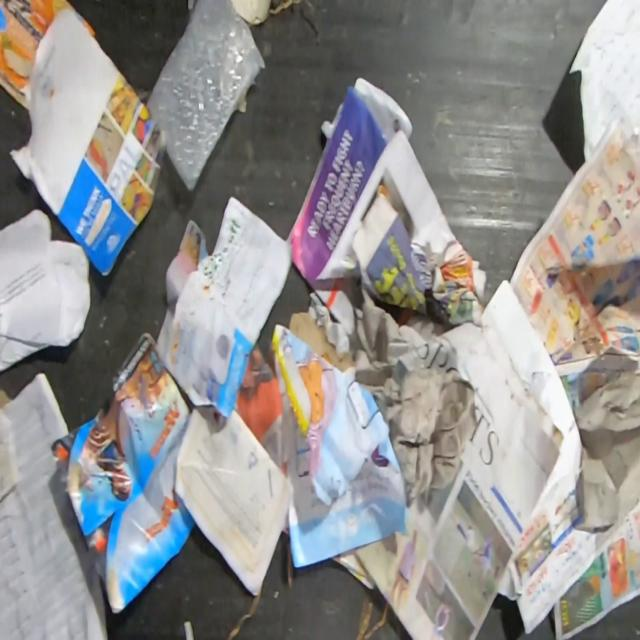cardboard: (6, 9, 164, 278), (287, 310, 356, 374)
soft_plastic: (143, 0, 268, 193)
